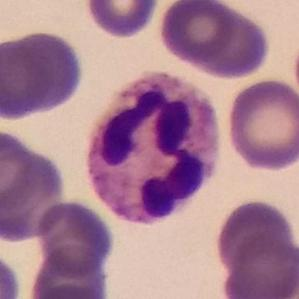Neutrophil: (78, 66, 230, 234)
RBC: (0, 27, 86, 121), (223, 76, 299, 172), (0, 140, 67, 243), (183, 5, 272, 80), (34, 197, 116, 278), (213, 197, 297, 275), (156, 0, 245, 68), (219, 231, 299, 299), (26, 245, 114, 299), (0, 125, 44, 212), (83, 0, 162, 40), (29, 282, 113, 299), (0, 251, 23, 299), (290, 30, 299, 111)
